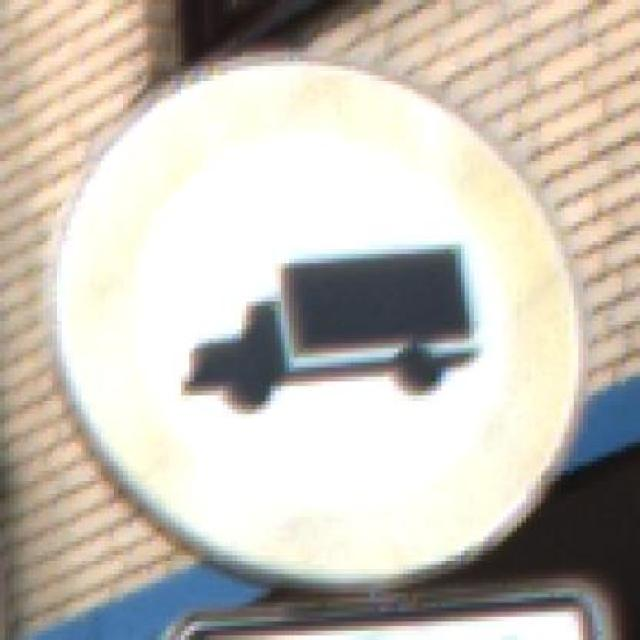Truck traffic is prohibited: (38, 33, 602, 598)
